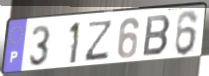1: (68, 20, 82, 65)
3: (28, 24, 53, 68)
6: (174, 9, 199, 58), (116, 16, 141, 60)
B: (141, 14, 173, 58)
Z: (83, 18, 115, 63)
